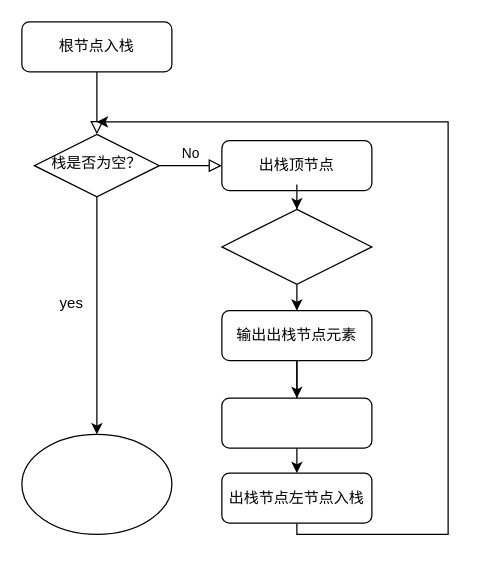
This 480x566 diagram has some shape labels left out. The box of each missing label's shape, as (x1, y1, x2, y2) in pixels:
出栈节点不为空？: (221, 208, 372, 284)
出栈节点右节点入栈: (221, 397, 372, 448)
结束: (21, 433, 172, 534)
